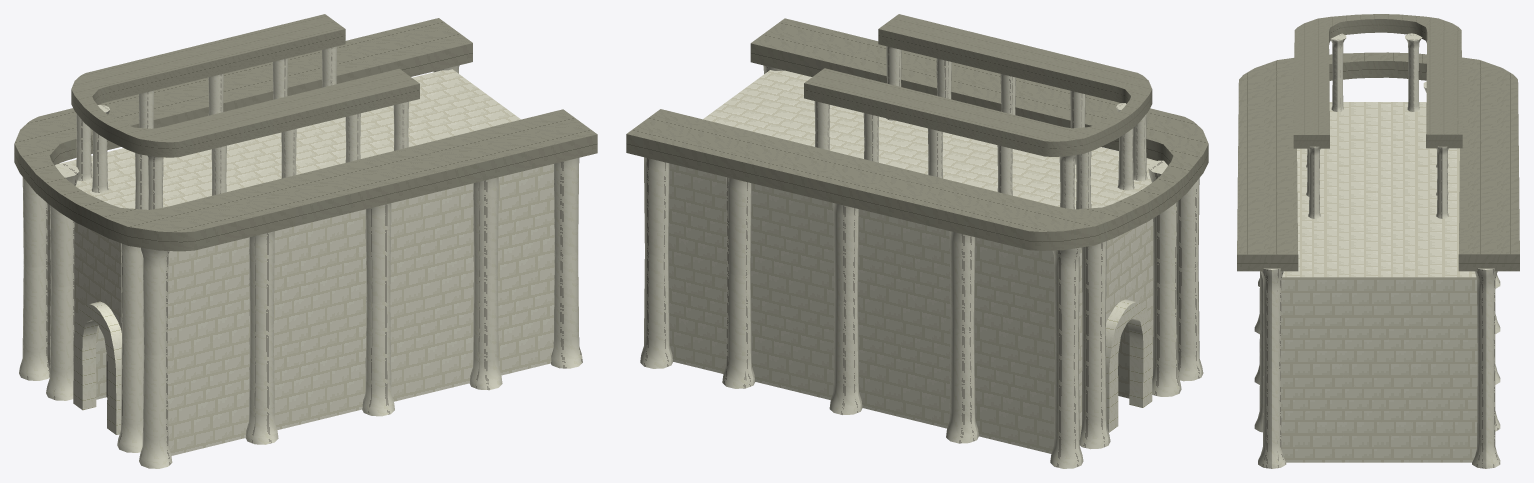
The model's file is water_warehouse.fbx.
3 renders of one model, left to right at view 1: azimuth 30°, elevation 25°; view 2: azimuth 150°, elevation 25°; view 3: azimuth 270°, elevation 25°, orthographic. The views are drawn at different scales.
Parts seen in each view (by area): view 1: warehouse; view 2: warehouse; view 3: warehouse.
Part boxes in pixels (<box>): warehouse: <box>14,14,597,468</box>; warehouse: <box>626,14,1208,468</box>; warehouse: <box>1237,14,1519,468</box>.
Size of the model in its own units: 3086 by 1909 by 1816.
5 materials, 4 textured.
